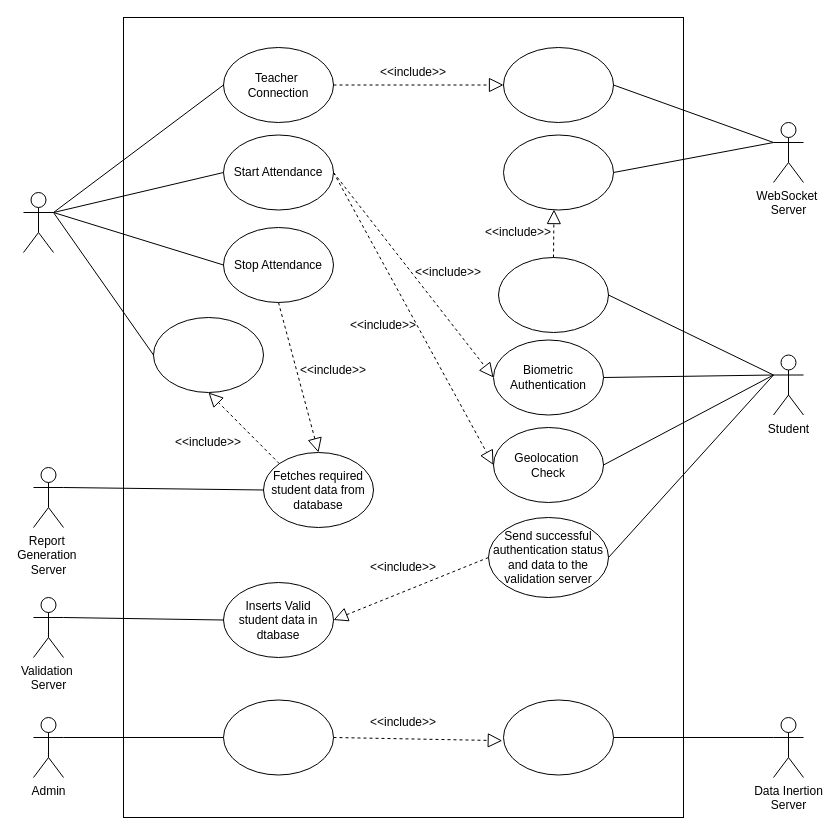
Some shapes in this 840 by 835 pixel diagram are drawn without their labels. The shapes that lost their labels are listed below. From the top down, each one's centre as x and y in pixels, then its label:
At [558,84]: "Create Session".
At [558,172]: "Map Student to Teacher Session".
At [38,222]: "Teacher".
At [553,294]: "Student Connection".
At [208,354]: "Generate Attendance Report".
At [278,737]: "Manages and Updates Studnent data".
At [558,737]: "Inserts the new data provided into databse".
